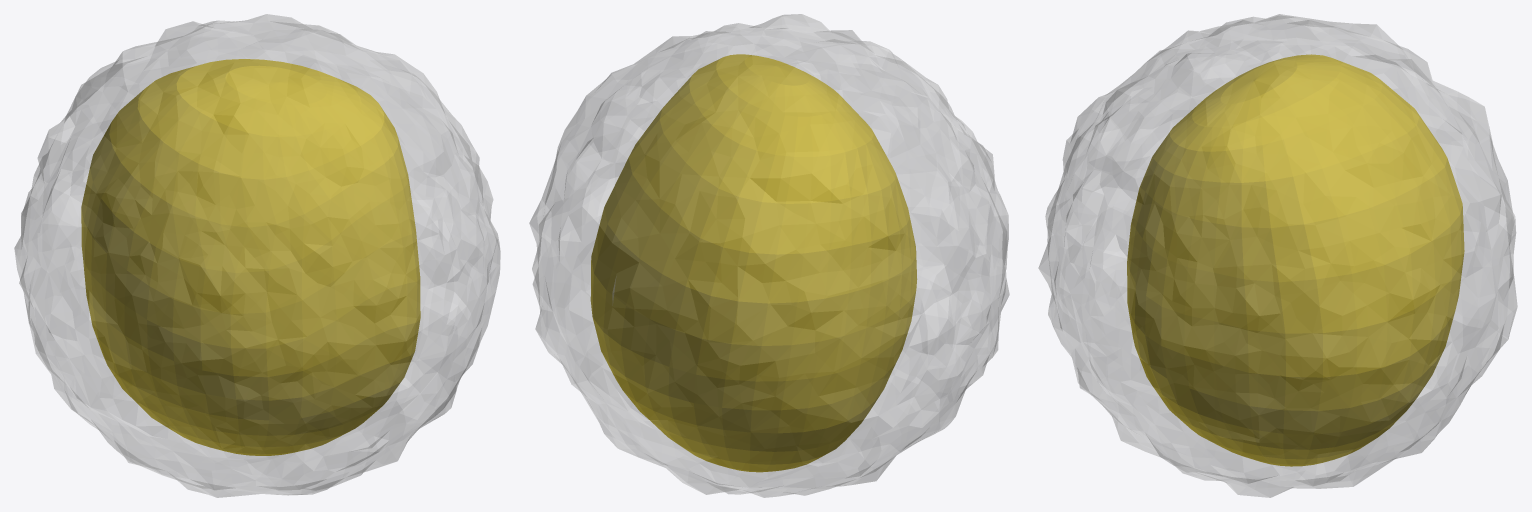
Rendered from LIMFOSITT.obj.
The picture shows the model from 3 angles, left to right: view 1: azimuth 30°, elevation 25°; view 2: azimuth 150°, elevation 25°; view 3: azimuth 270°, elevation 25°; orthographic projection.
Parts seen in each view (by area): view 1: Sphere_Sphere.001, Sphere; view 2: Sphere_Sphere.001, Sphere; view 3: Sphere_Sphere.001, Sphere.
Boxes of the visible parts, x1=… form: Sphere_Sphere.001: x1=14, y1=14, x2=500, y2=497; Sphere: x1=81, y1=59, x2=420, y2=455; Sphere_Sphere.001: x1=529, y1=14, x2=1009, y2=497; Sphere: x1=590, y1=54, x2=917, y2=472; Sphere_Sphere.001: x1=1038, y1=14, x2=1517, y2=497; Sphere: x1=1127, y1=54, x2=1464, y2=466.
Size of the model in its own units: 2.07 by 2.06 by 2.07.
